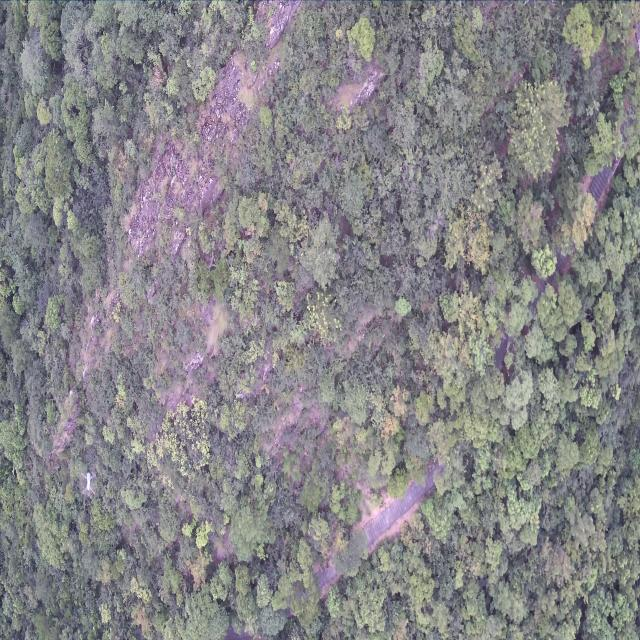UAV: (80, 471, 96, 496)
